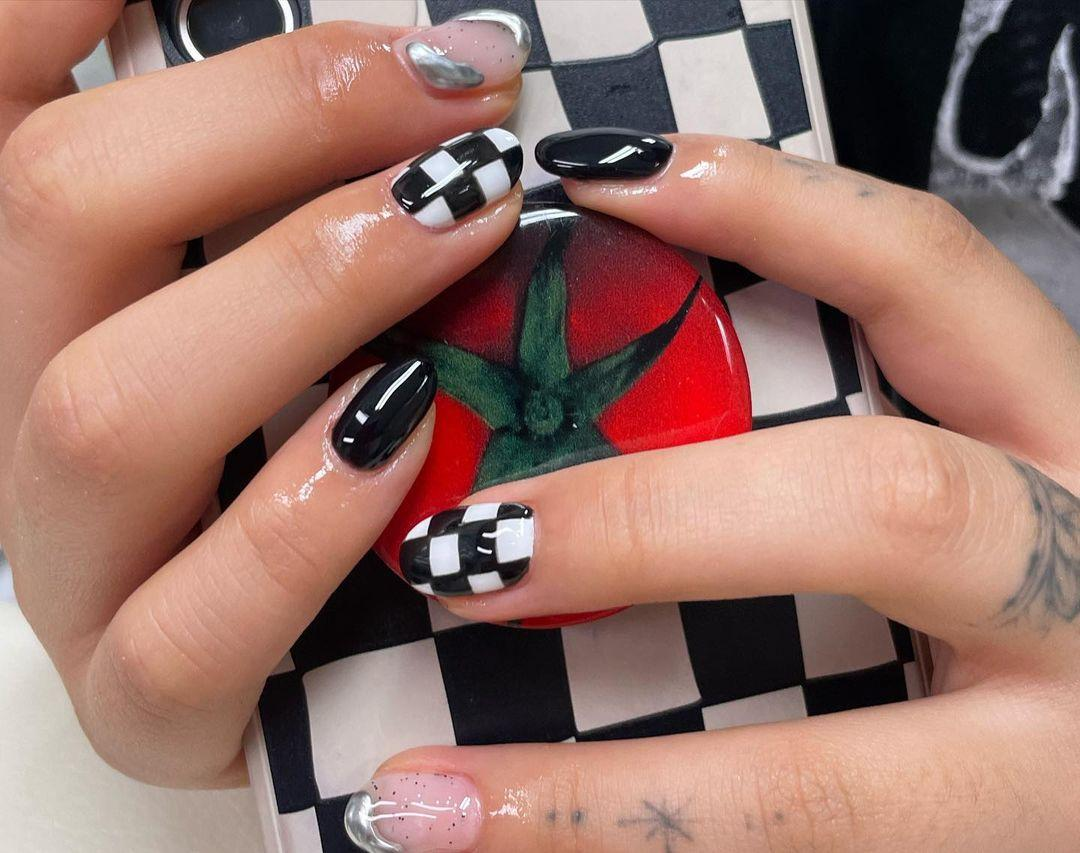nail: (389, 125, 524, 230), (398, 499, 535, 598), (329, 353, 437, 471), (393, 8, 531, 95), (342, 768, 483, 851), (534, 125, 673, 180)
